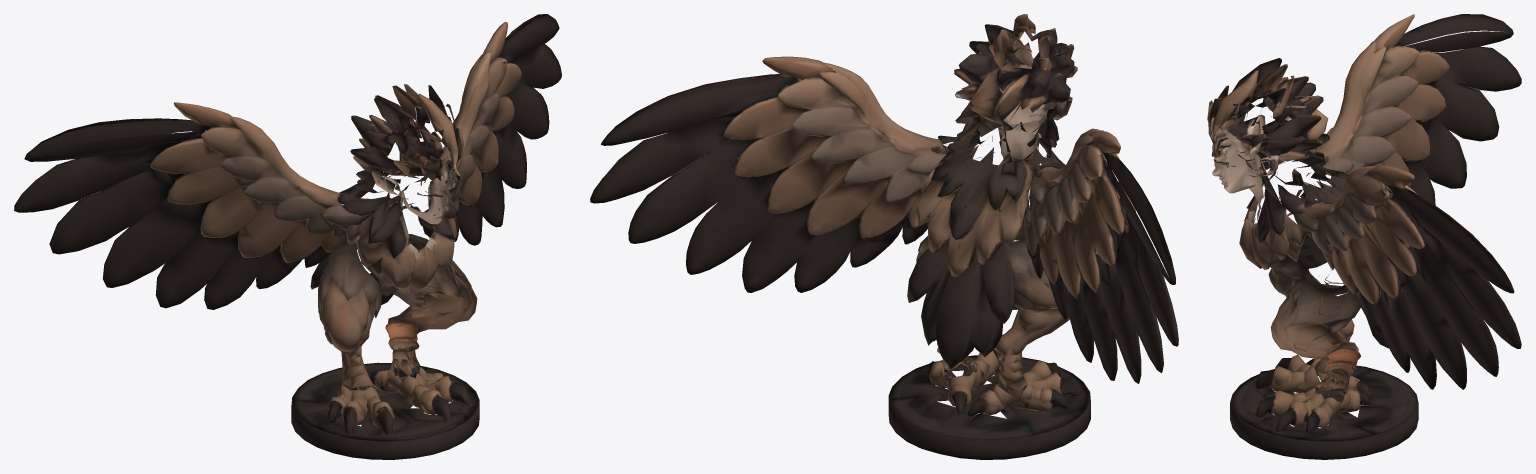
File: harpy-tripo-d500fc84-segmented-retopo.glb
3 renders of one model, left to right at view 1: azimuth 30°, elevation 25°; view 2: azimuth 150°, elevation 25°; view 3: azimuth 270°, elevation 25°, orthographic. The views are drawn at different scales.
Parts seen in each view (by area): view 1: tripo_part_1, tripo_part_0, tripo_part_4, tripo_part_2, tripo_part_3, tripo_part_5, tripo_part_6, tripo_part_8, tripo_part_7; view 2: tripo_part_0, tripo_part_1, tripo_part_5, tripo_part_2, tripo_part_4, tripo_part_3, tripo_part_7, tripo_part_8; view 3: tripo_part_0, tripo_part_1, tripo_part_2, tripo_part_4, tripo_part_6, tripo_part_3, tripo_part_8, tripo_part_7, tripo_part_5.
Boxes of the visible parts, x1=… form: tripo_part_1: x1=14, y1=102, x2=368, y2=309; tripo_part_0: x1=410, y1=14, x2=561, y2=245; tripo_part_4: x1=291, y1=362, x2=479, y2=459; tripo_part_2: x1=350, y1=84, x2=464, y2=224; tripo_part_3: x1=338, y1=175, x2=458, y2=295; tripo_part_5: x1=310, y1=243, x2=393, y2=388; tripo_part_6: x1=385, y1=234, x2=477, y2=379; tripo_part_8: x1=369, y1=366, x2=471, y2=420; tripo_part_7: x1=327, y1=386, x2=394, y2=434; tripo_part_0: x1=590, y1=56, x2=952, y2=292; tripo_part_1: x1=1023, y1=128, x2=1178, y2=383; tripo_part_5: x1=907, y1=240, x2=1069, y2=399; tripo_part_2: x1=954, y1=14, x2=1077, y2=166; tripo_part_4: x1=888, y1=355, x2=1090, y2=459; tripo_part_3: x1=915, y1=131, x2=1065, y2=277; tripo_part_7: x1=967, y1=361, x2=1081, y2=416; tripo_part_8: x1=928, y1=349, x2=998, y2=414; tripo_part_0: x1=1293, y1=165, x2=1521, y2=389; tripo_part_1: x1=1306, y1=14, x2=1521, y2=205; tripo_part_2: x1=1207, y1=58, x2=1335, y2=223; tripo_part_4: x1=1230, y1=363, x2=1418, y2=459; tripo_part_6: x1=1270, y1=270, x2=1360, y2=403; tripo_part_3: x1=1239, y1=161, x2=1350, y2=291; tripo_part_8: x1=1255, y1=387, x2=1371, y2=433; tripo_part_7: x1=1255, y1=354, x2=1371, y2=400; tripo_part_5: x1=1268, y1=268, x2=1388, y2=381.
Bounding box in the file's own units: 0.9776 × 0.6027 × 0.488.
9 materials, 9 textured.
